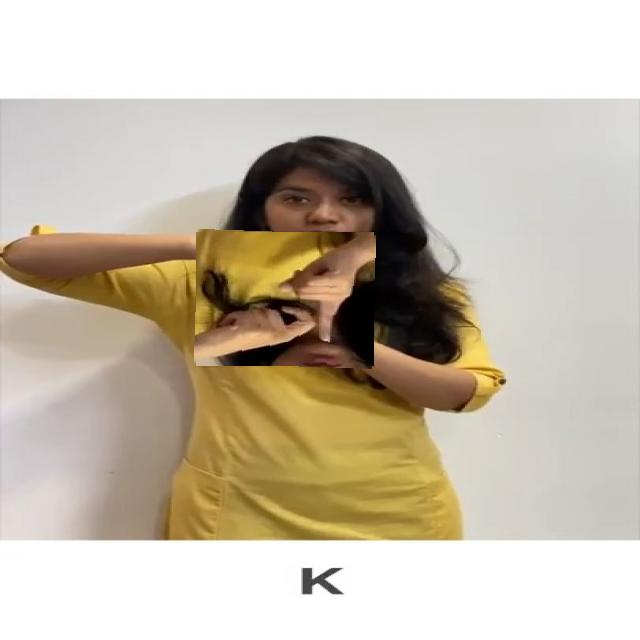K: (195, 231, 375, 368)
